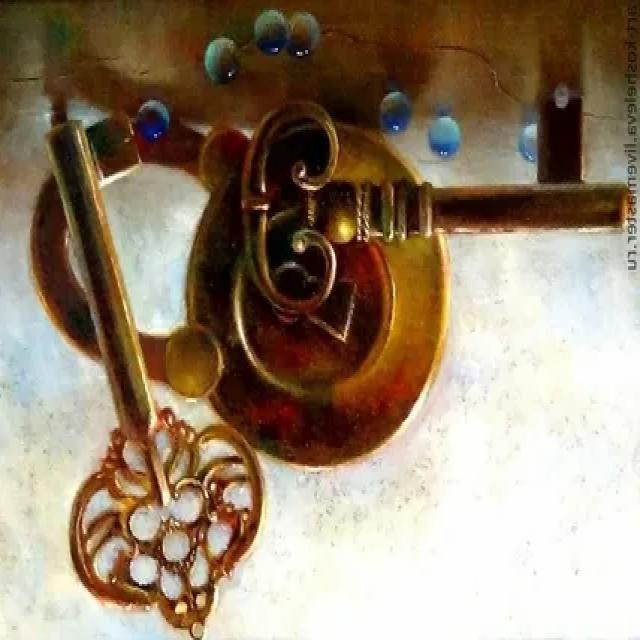key: (231, 67, 635, 326), (38, 106, 214, 640)
